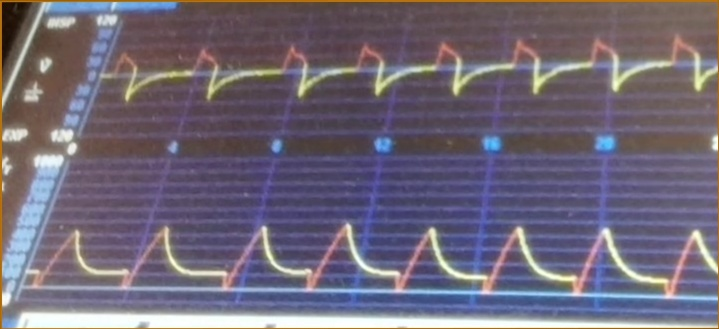Flow: (114, 25, 716, 127)
Leakage Volume: (48, 195, 717, 313)
